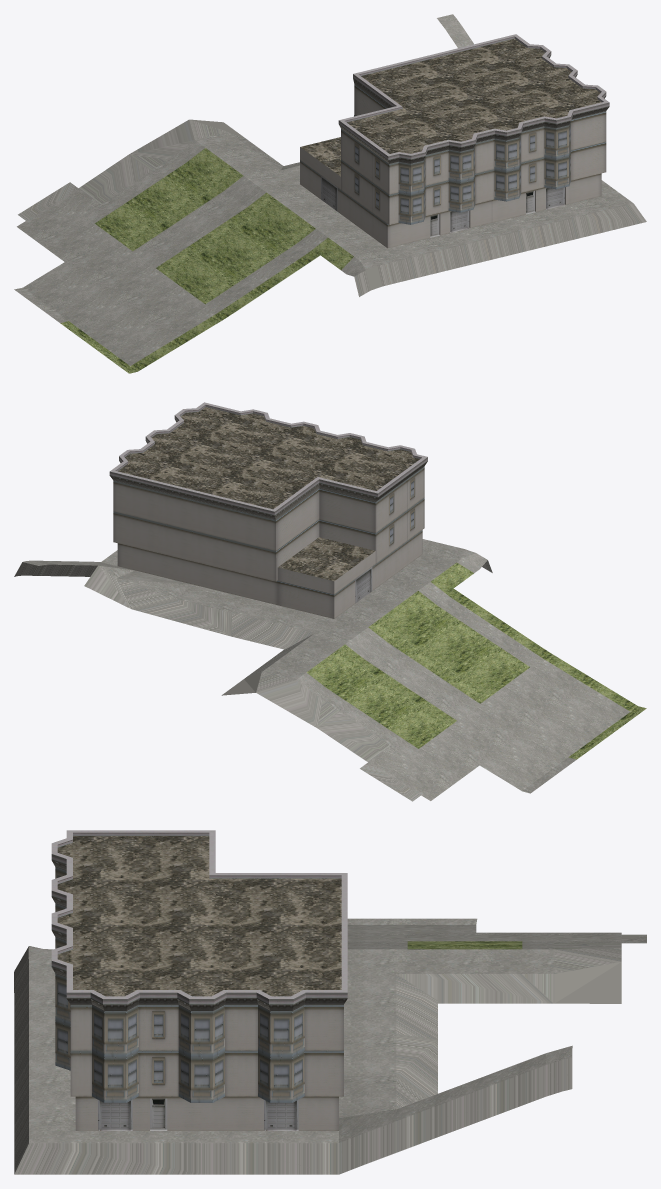
Rendered from vicstuff_sfe45.obj.
3 views of the same model, one above another, from view 1: azimuth 30°, elevation 25°; view 2: azimuth 150°, elevation 25°; view 3: azimuth 270°, elevation 25° (orthographic). The views are drawn at different scales.
Visible parts, largest first — view 1: vicstuff_sfe45; view 2: vicstuff_sfe45; view 3: vicstuff_sfe45.
Part boxes in pixels (x1,y1,x2,y2): vicstuff_sfe45: [14, 14, 646, 373]; vicstuff_sfe45: [14, 402, 646, 801]; vicstuff_sfe45: [14, 830, 646, 1174].
Bounding box in the file's own units: 91.83 × 32.05 × 69.92.
26 materials, 25 textured.
